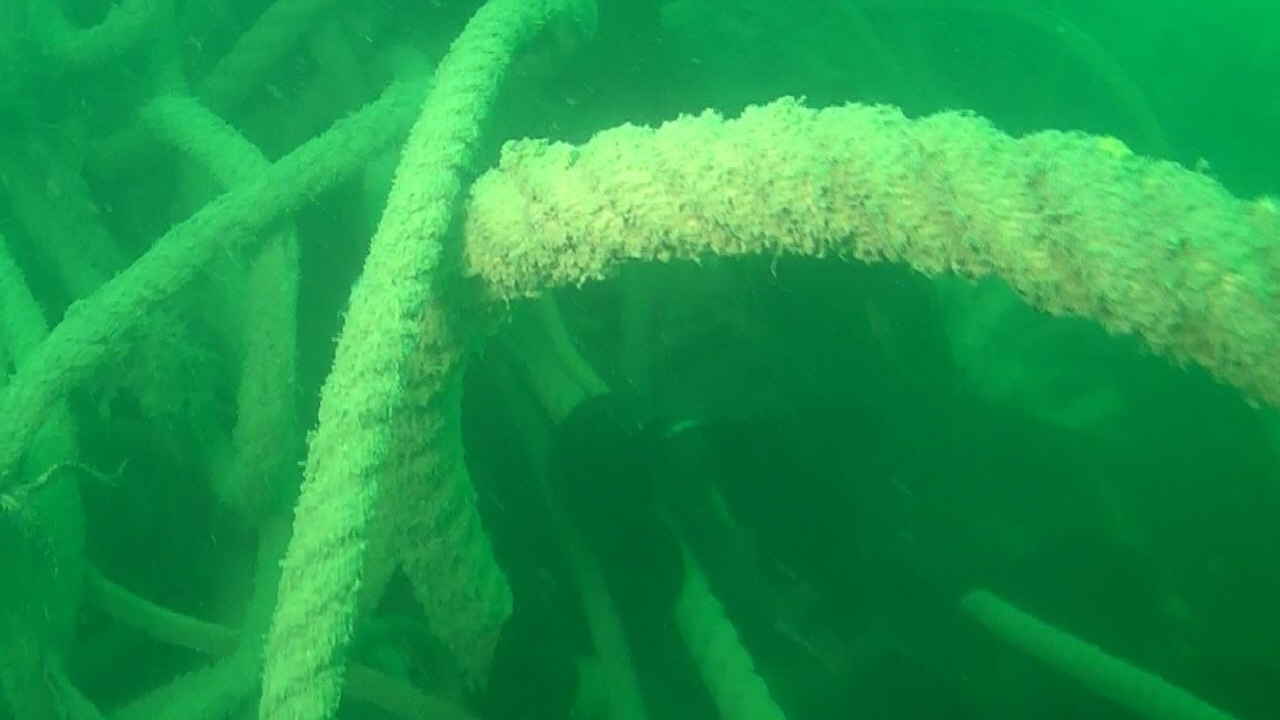bundle of ropes: (257, 0, 1280, 720)
